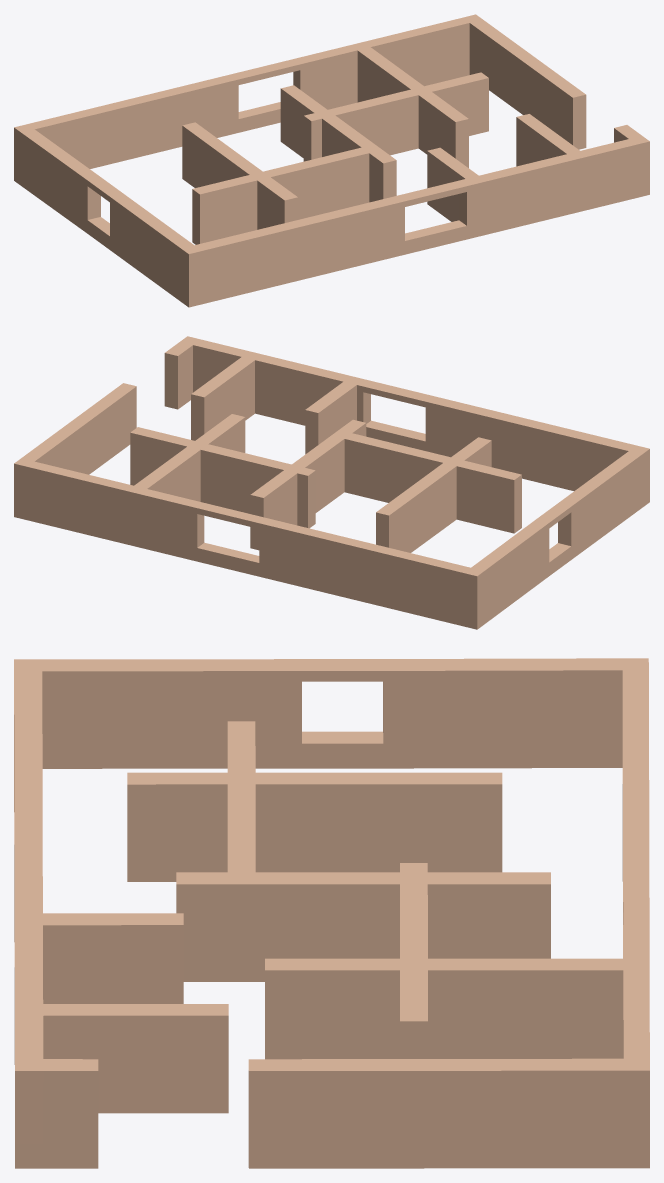
File: Level 2.fbx
3 views of the same model, one above another, from view 1: azimuth 30°, elevation 25°; view 2: azimuth 150°, elevation 25°; view 3: azimuth 270°, elevation 25° (orthographic). The views are drawn at different scales.
Parts seen in each view (by area): view 1: polySurface49; view 2: polySurface49; view 3: polySurface49.
Part boxes in pixels (bbox=[...]): polySurface49: bbox=[14, 14, 649, 307]; polySurface49: bbox=[14, 336, 649, 629]; polySurface49: bbox=[14, 658, 649, 1168].
Size of the model in its own units: 154 by 16.93 by 99.98.
